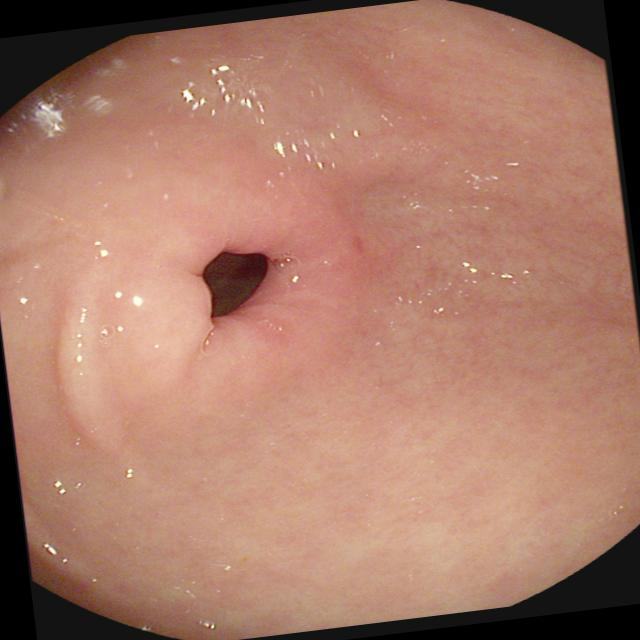normal-pylorus: (0, 166, 378, 455)
